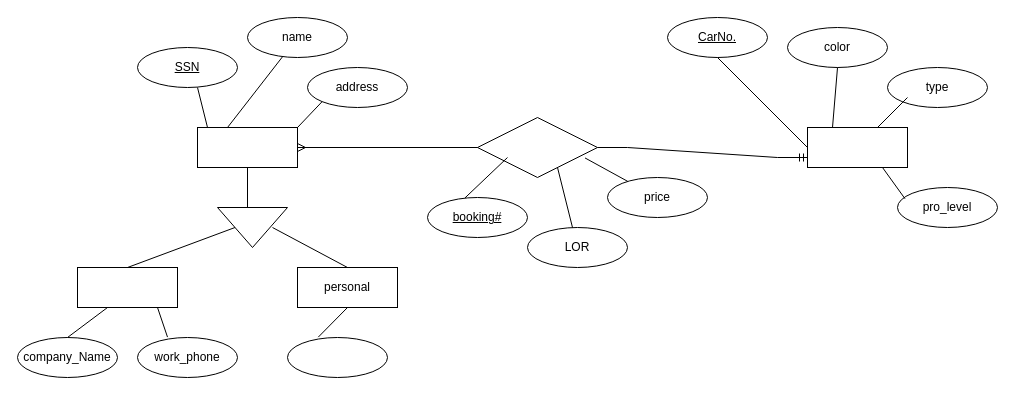
Some shapes in this 1015 by 395 pixel diagram are drawn without their labels. The centre of each missing label's shape, as x and y in pixels:
"booking" goes at [537,147].
"business" goes at [127,287].
"Car" goes at [857,147].
"Customer" goes at [247,147].
"per_phone" goes at [337,357].
"rent" goes at [252,227].
